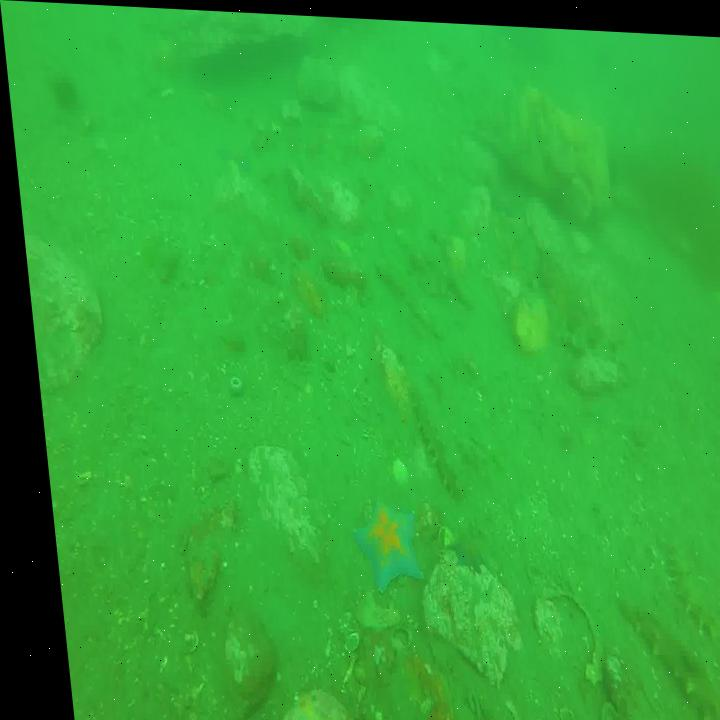echinus: (49, 71, 76, 115)
holothurian: (611, 597, 720, 720), (397, 371, 458, 494), (654, 530, 711, 630)
starfish: (341, 497, 414, 589), (215, 131, 250, 180)
